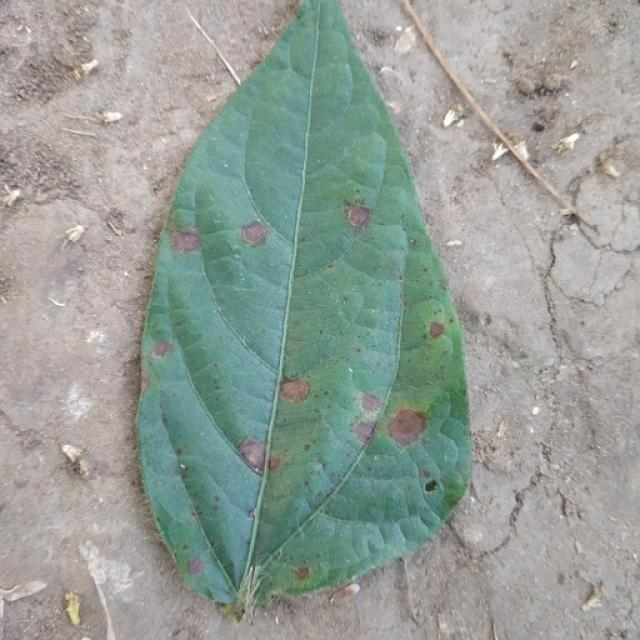Anthracnose: (385, 406, 430, 453), (238, 439, 267, 470), (278, 377, 311, 404), (239, 219, 270, 247), (171, 229, 202, 253), (352, 420, 378, 445), (347, 205, 372, 230), (361, 393, 381, 413), (152, 340, 172, 358), (188, 555, 204, 574), (428, 321, 445, 338), (294, 565, 310, 581)
Blackgram: (138, 0, 470, 610)
